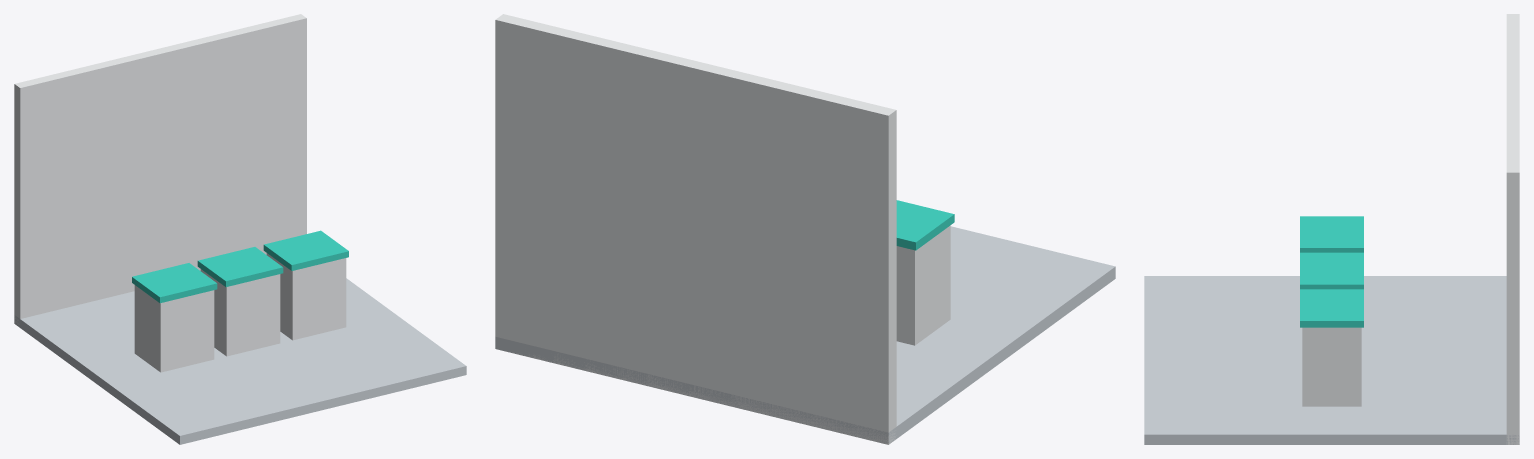
3 views of the same model, side by side, from view 1: azimuth 30°, elevation 25°; view 2: azimuth 150°, elevation 25°; view 3: azimuth 270°, elevation 25° (orthographic). The views are drawn at different scales.
Parts seen in each view (by area): view 1: Exhibition Booth Concept; view 2: Exhibition Booth Concept; view 3: Exhibition Booth Concept.
Boxes of the visible parts, x1=… form: Exhibition Booth Concept: x1=14, y1=14, x2=466, y2=444; Exhibition Booth Concept: x1=495, y1=14, x2=1115, y2=444; Exhibition Booth Concept: x1=1144, y1=14, x2=1519, y2=444.
Bounding box in the file's own units: 4 × 3.2 × 4.
